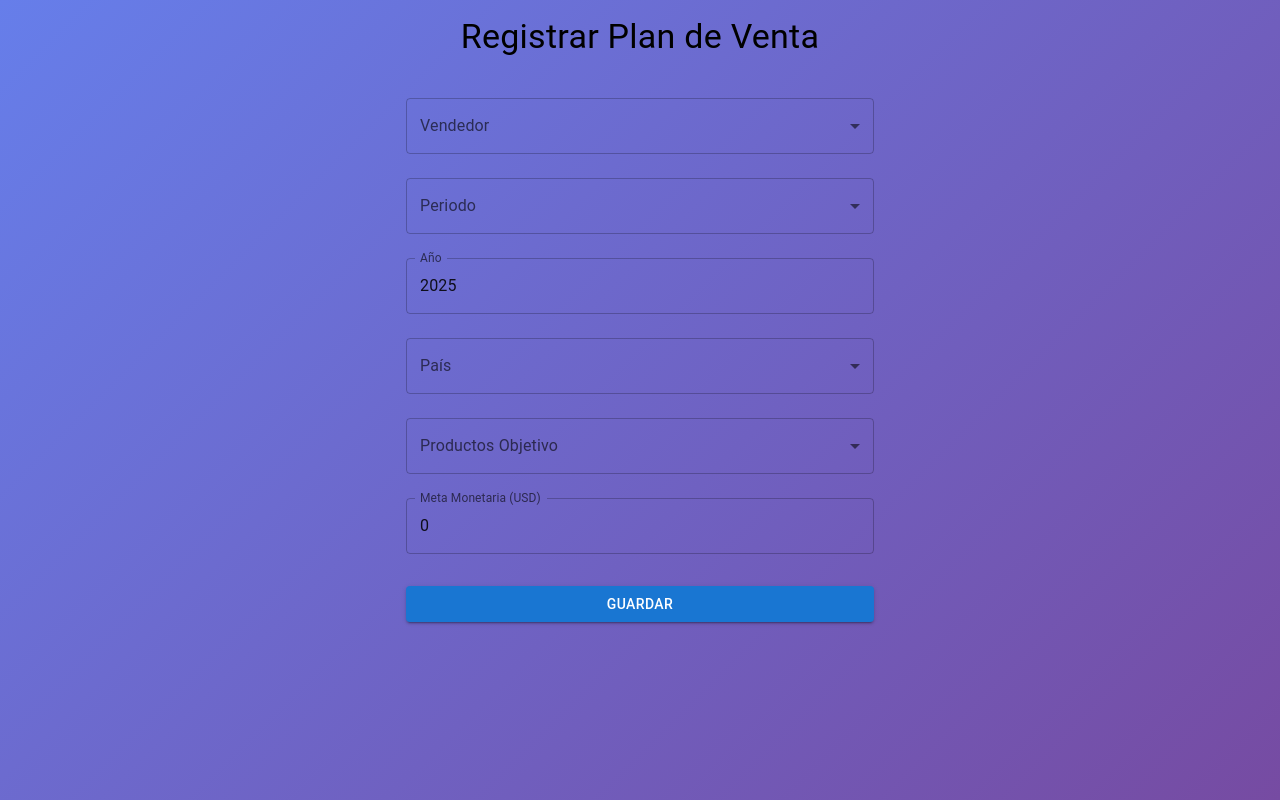
Test: PlanVentaForm › Validaciones de campos obligatorios › muestra errores cuando se intenta enviar sin completar campos
Expected: the dropdown named "Vendedor" next to "Vendedor" is shown, 406,98 -> 874,154
Note: Intentar enviar sin completar
Click the button "Guardar". click: x=640, y=604
box: 406,586 -> 874,622
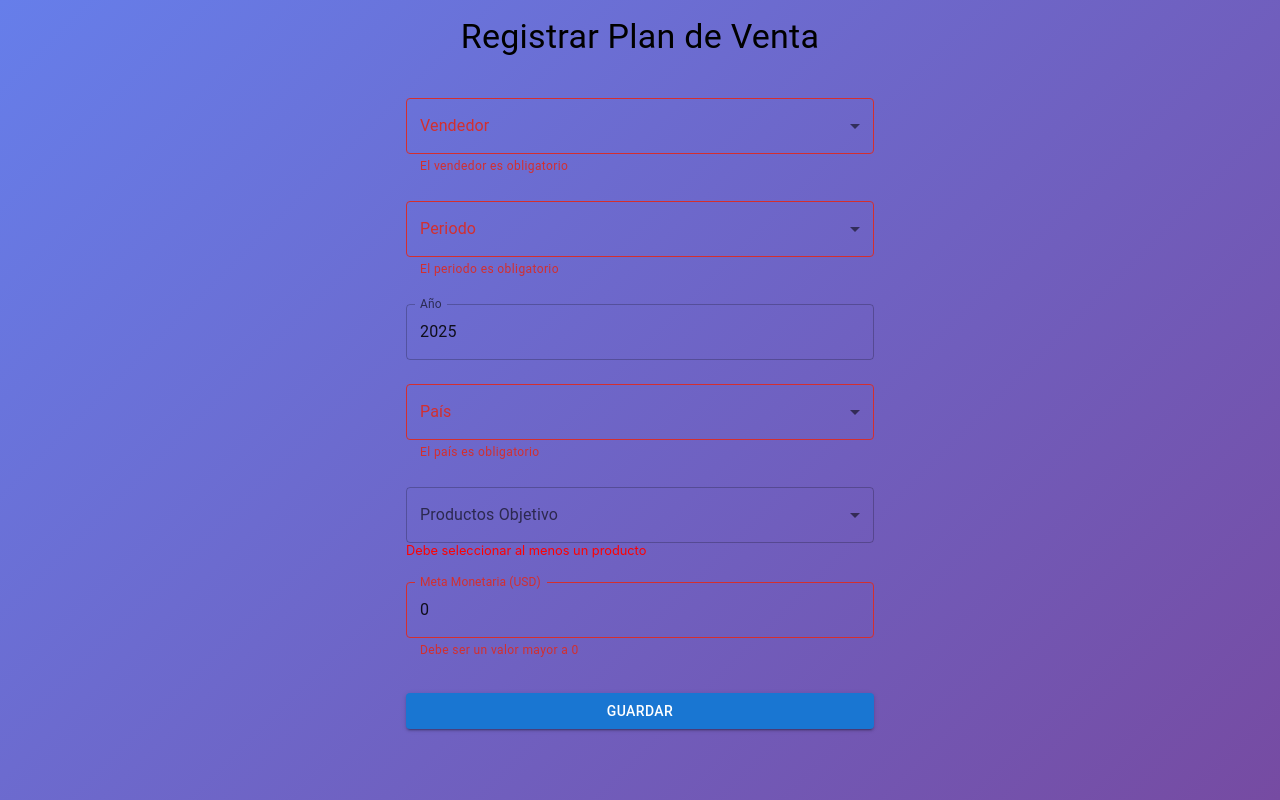
Expected: the text "El vendedor es obligatorio" is shown, 420,159 -> 568,173
Expected: the text "El periodo es obligatorio" is shown, 420,262 -> 559,276
Expected: the text "El país es obligatorio" is shown, 420,445 -> 540,459
